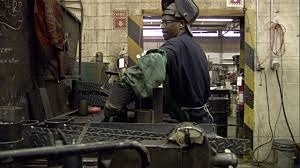person without safety: (93, 1, 225, 125)
